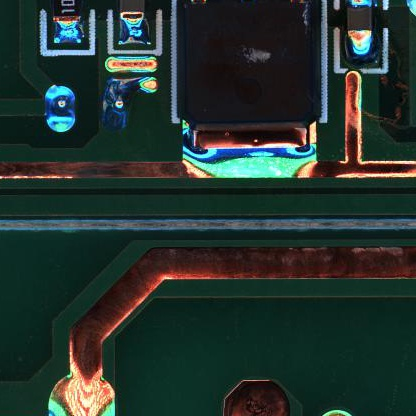spot: (42, 83, 78, 133)
